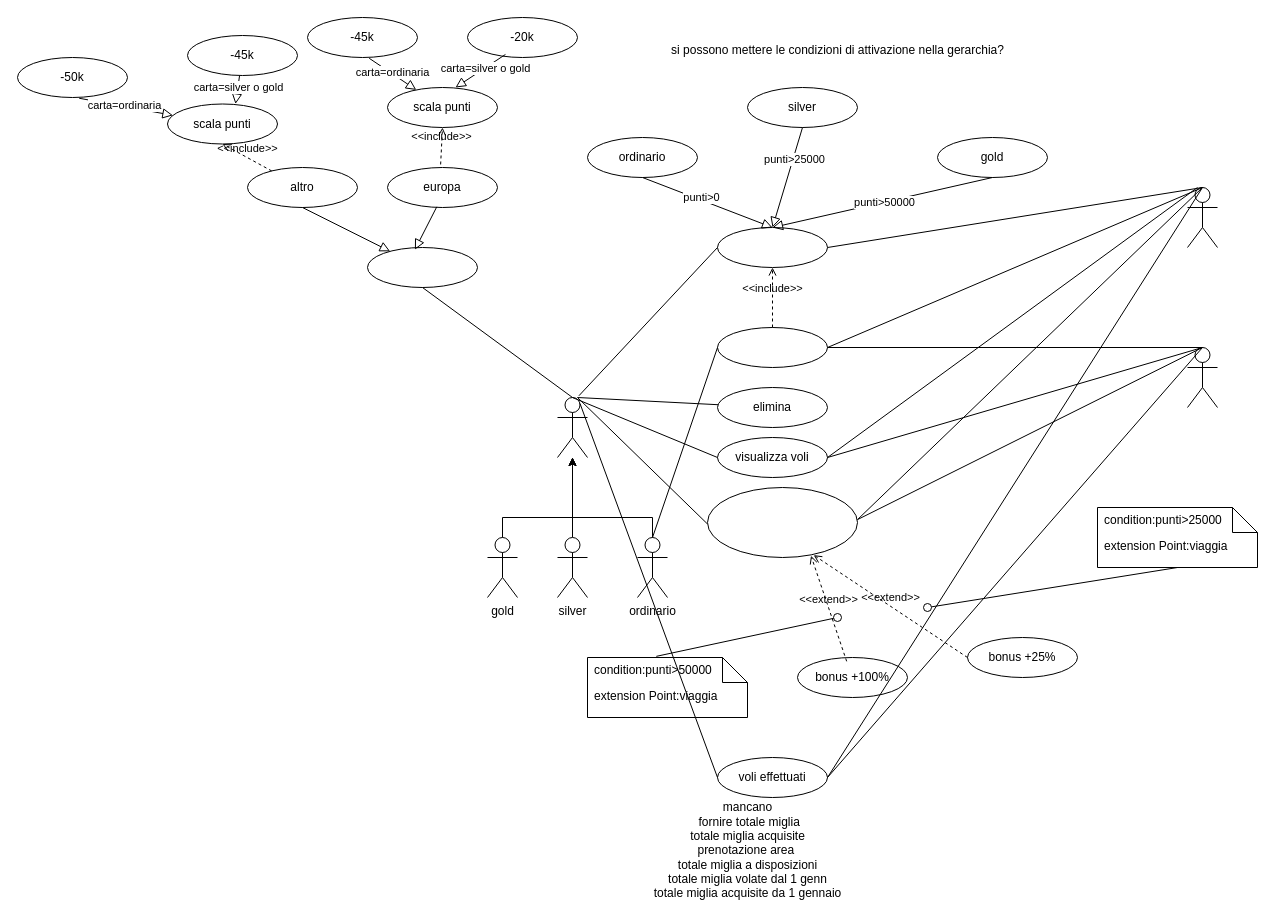
The diagram is 1275 pixels wide and 923 high, and some of its shapes have lost their labels. The centre of each missing label's shape, as x and y in pixels:
accumula punti: [782,522]
biglietto gratis: [422,267]
crea carta: [772,247]
DB: [1202,377]
Freguent Fly: [572,427]
iscrizione programma: [772,347]
personale: [1202,217]
